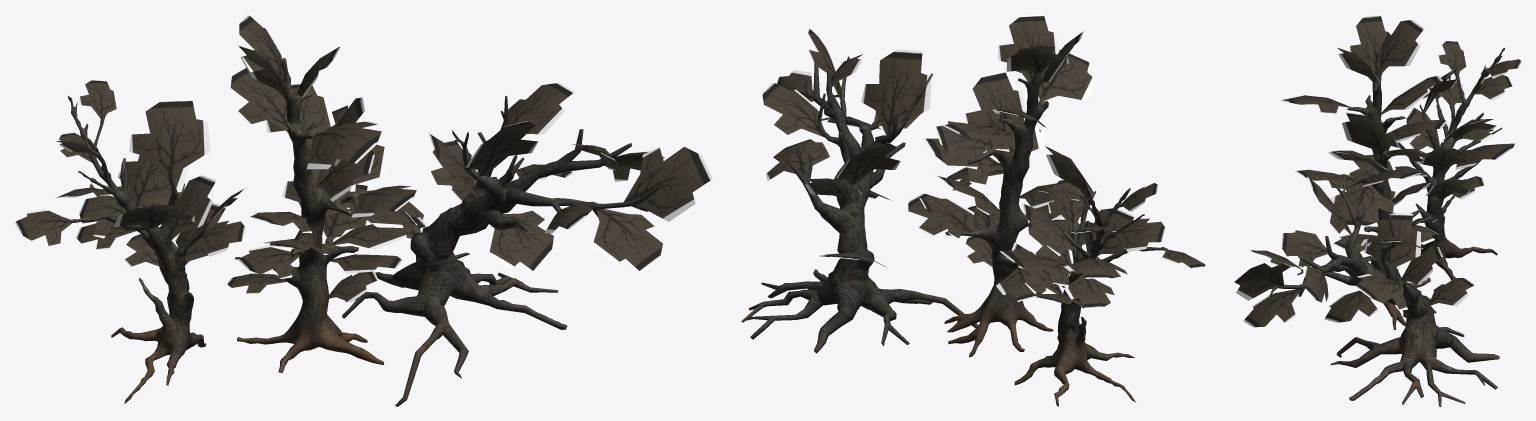
Rendered from trees1.fbx.
3 views of the same model, side by side, from view 1: azimuth 30°, elevation 25°; view 2: azimuth 150°, elevation 25°; view 3: azimuth 270°, elevation 25° (orthographic). The views are drawn at different scales.
Visible parts, largest first — view 1: branches, branches_2, branches_3, tree2, tree1, tree3; view 2: branches, tree2, branches_2, branches_3, tree1, tree3; view 3: branches, branches_2, tree2, branches_3, tree3, tree1.
Boxes of the visible parts, x1,y1,x2,y2 form: branches: [227, 14, 428, 302]; branches_2: [400, 82, 712, 272]; branches_3: [14, 79, 245, 267]; tree2: [342, 96, 659, 406]; tree1: [235, 58, 400, 372]; tree3: [68, 96, 210, 403]; branches: [908, 14, 1096, 301]; tree2: [741, 56, 978, 353]; branches_2: [762, 28, 931, 267]; branches_3: [999, 146, 1205, 309]; tree1: [944, 72, 1053, 357]; tree3: [1014, 187, 1167, 406]; branches: [1280, 14, 1447, 261]; branches_2: [1234, 176, 1474, 327]; tree2: [1269, 174, 1499, 406]; branches_3: [1395, 40, 1521, 199]; tree3: [1408, 47, 1504, 280]; tree1: [1339, 48, 1436, 329].
Bounding box in the file's own units: 1562 × 1016 × 898.
